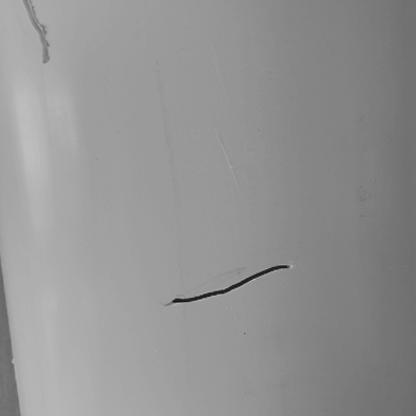fengxi: (167, 262, 293, 307)
sunshang: (18, 1, 52, 64)
